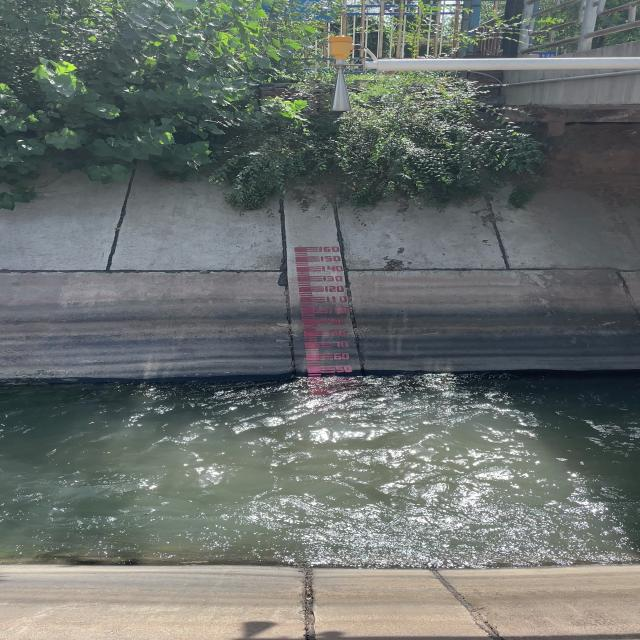ruler: (291, 243, 364, 380)
value: (323, 294, 351, 304), (326, 305, 351, 315), (317, 245, 342, 254), (323, 284, 346, 293), (329, 328, 349, 338), (320, 264, 345, 272), (320, 274, 345, 282), (319, 255, 343, 263), (332, 352, 352, 361), (326, 317, 346, 326), (331, 340, 350, 349)
